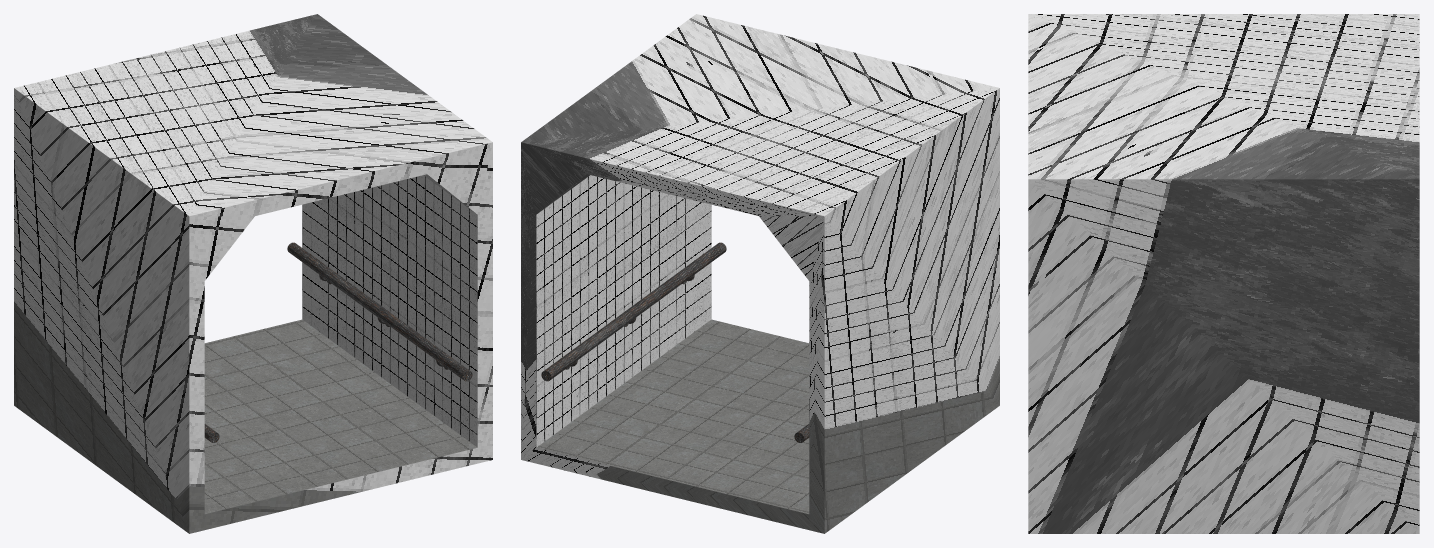
Rendered from HalwayShuin.glb.
3 renders of one model, left to right at view 1: azimuth 30°, elevation 25°; view 2: azimuth 150°, elevation 25°; view 3: azimuth 270°, elevation 25°, orthographic. The views are drawn at different scales.
Parts seen in each view (by area): view 1: metro-halway, BézierCurve; view 2: metro-halway, BézierCurve; view 3: metro-halway.
Part boxes in pixels (<box>): metro-halway: <box>14,14,492,533</box>; BézierCurve: <box>287,242,472,381</box>; metro-halway: <box>521,14,999,533</box>; BézierCurve: <box>541,242,726,381</box>; metro-halway: <box>1028,14,1419,533</box>.
Size of what is drawn, in the model's own units: 3 by 3 by 3.
Materials: 2 (2 with a texture image).
